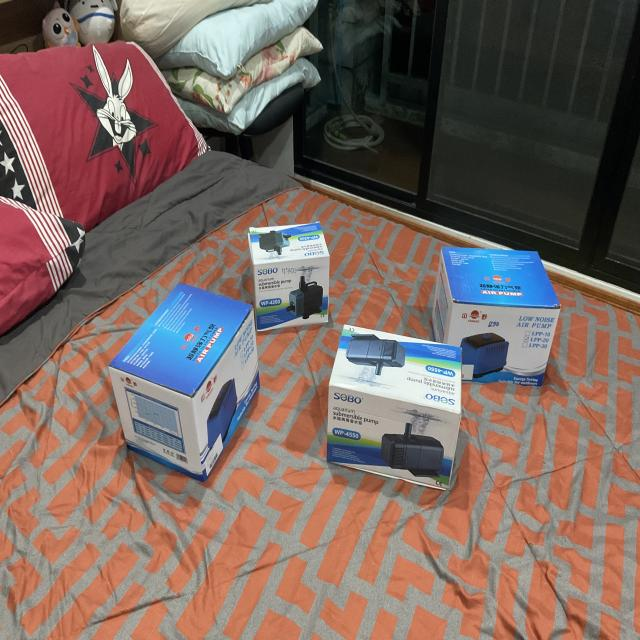SOBO_WP_4200: (324, 319, 476, 511), (238, 208, 341, 342)
YAMANO_LPP_20: (106, 272, 268, 473), (427, 225, 579, 388)
